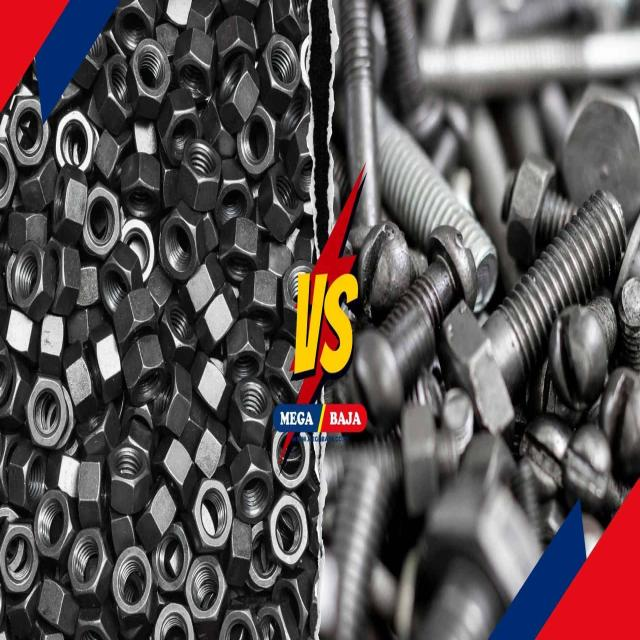Logam: (25, 66, 294, 640), (371, 125, 640, 601)
